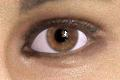eye: (48, 27, 78, 51)
